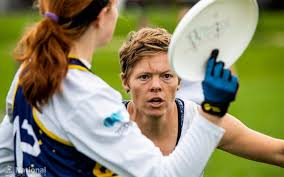disc: (168, 0, 259, 86)
